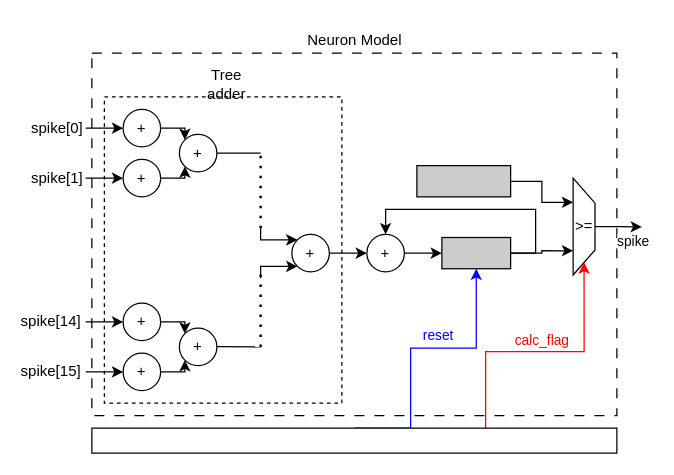
Some shapes in this 674 by 475 pixel diagram are drawn without their labels. Here are the shapes that lost their labels. From the top down, the centre of each, then its label:
At point (463, 180): "V_threshold".
At point (476, 252): "V_mem".
At point (354, 440): "Pulse Generator".
